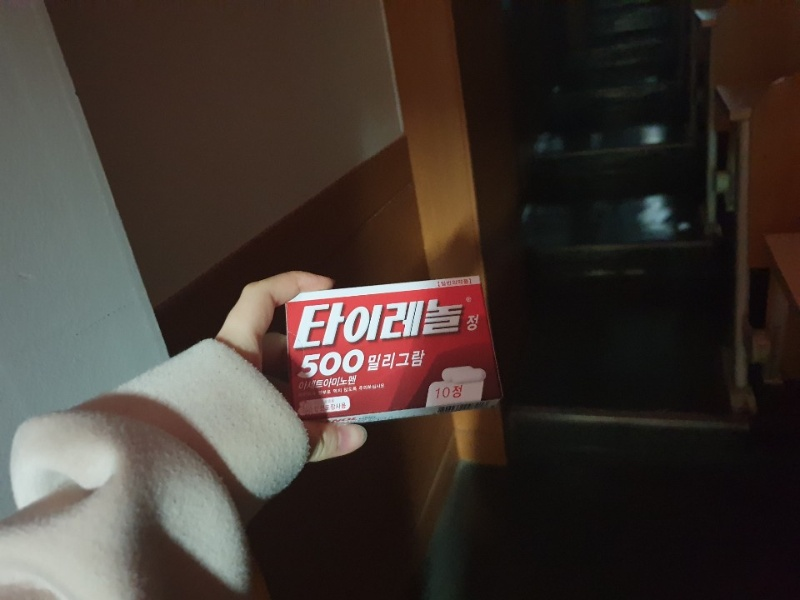tylenol: (283, 277, 502, 424)
